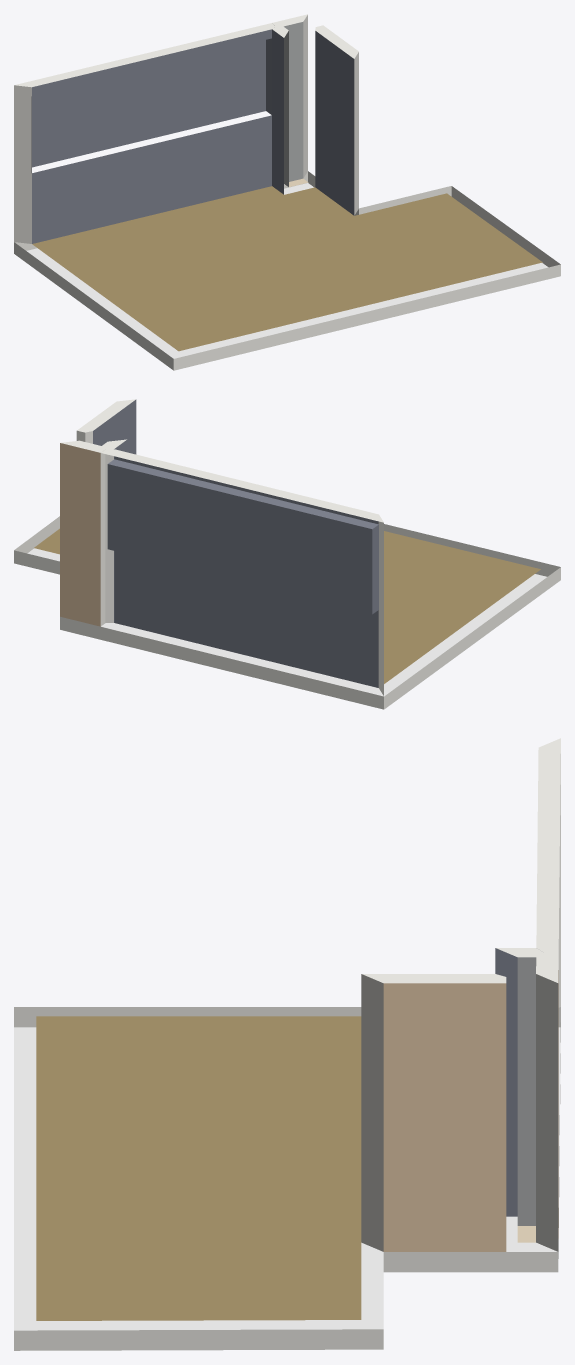
Rendered from room_level4_group_00_lev1.glb.
3 renders of one model, top to bottom at view 1: azimuth 30°, elevation 25°; view 2: azimuth 150°, elevation 25°; view 3: azimuth 270°, elevation 25°, orthographic. The views are drawn at different scales.
Visible parts, largest first — view 1: mesh4__0dbccd6c_9a0f_084a_864c_9ca557faa1ec__0ayysbed_zg83dy, mesh14__db2f0d91_7694_6343_b0fd_47d4e18ad08a__0_lev1, mesh64__db2f0d91_7694_6343_b0fd_47d4e18ad08a__0_lev1, mesh1__a6f3e02a_d7d8_0f41_8aa3_8ef13c2b3b5d__0_lev1, mesh6__db2f0d91_7694_6343_b0fd_47d4e18ad08a__0_lev1, mesh2__c2542081_5ccf_c14f_b117_9df684bb1a7b__0_lev1, mesh16_fx_9001_cream_matte_paint_0_lev1, mesh18__4aa4e706_0d30_d54b_b003_55d5056eaf82__0_lev1, mesh21__db2f0d91_7694_6343_b0fd_47d4e18ad08a__0_lev1, mesh15_fx_9001_cream_matte_paint_0_lev1, mesh8_fx_9001_cream_matte_paint_0_lev1, mesh20_fx_9001_cream_matte_paint_0_lev1 (+3 smaller); view 2: mesh64__db2f0d91_7694_6343_b0fd_47d4e18ad08a__0_lev1, mesh14__db2f0d91_7694_6343_b0fd_47d4e18ad08a__0_lev1, mesh4__0dbccd6c_9a0f_084a_864c_9ca557faa1ec__0ayysbed_zg83dy, mesh1__a6f3e02a_d7d8_0f41_8aa3_8ef13c2b3b5d__0_lev1, mesh17__5463735a_07d9_0d46_b99b_4a921fd9a507__0_lev1, mesh2__c2542081_5ccf_c14f_b117_9df684bb1a7b__0_lev1, mesh16_fx_9001_cream_matte_paint_0_lev1, mesh65__db2f0d91_7694_6343_b0fd_47d4e18ad08a__0_lev1, mesh15_fx_9001_cream_matte_paint_0_lev1, mesh6__db2f0d91_7694_6343_b0fd_47d4e18ad08a__0_lev1, mesh7_fx_9001_cream_matte_paint_0_lev1; view 3: mesh4__0dbccd6c_9a0f_084a_864c_9ca557faa1ec__0ayysbed_zg83dy, mesh5__5463735a_07d9_0d46_b99b_4a921fd9a507__0_lev1, mesh1__a6f3e02a_d7d8_0f41_8aa3_8ef13c2b3b5d__0_lev1, mesh2__c2542081_5ccf_c14f_b117_9df684bb1a7b__0_lev1, mesh8_fx_9001_cream_matte_paint_0_lev1, mesh20_fx_9001_cream_matte_paint_0_lev1, mesh22__4aa4e706_0d30_d54b_b003_55d5056eaf82__0_lev1, mesh15_fx_9001_cream_matte_paint_0_lev1, mesh21__db2f0d91_7694_6343_b0fd_47d4e18ad08a__0_lev1, mesh7_fx_9001_cream_matte_paint_0_lev1.
Boxes of the visible parts, left/top/right/bottom form: mesh4__0dbccd6c_9a0f_084a_864c_9ca557faa1ec__0ayysbed_zg83dy: left=32, top=186, right=542, bottom=351; mesh14__db2f0d91_7694_6343_b0fd_47d4e18ad08a__0_lev1: left=32, top=29, right=271, bottom=243; mesh64__db2f0d91_7694_6343_b0fd_47d4e18ad08a__0_lev1: left=32, top=40, right=265, bottom=167; mesh1__a6f3e02a_d7d8_0f41_8aa3_8ef13c2b3b5d__0_lev1: left=14, top=171, right=560, bottom=370; mesh6__db2f0d91_7694_6343_b0fd_47d4e18ad08a__0_lev1: left=315, top=31, right=354, bottom=215; mesh2__c2542081_5ccf_c14f_b117_9df684bb1a7b__0_lev1: left=27, top=183, right=548, bottom=358; mesh16_fx_9001_cream_matte_paint_0_lev1: left=14, top=25, right=274, bottom=243; mesh18__4aa4e706_0d30_d54b_b003_55d5056eaf82__0_lev1: left=284, top=22, right=303, bottom=181; mesh21__db2f0d91_7694_6343_b0fd_47d4e18ad08a__0_lev1: left=272, top=29, right=283, bottom=194; mesh15_fx_9001_cream_matte_paint_0_lev1: left=14, top=23, right=275, bottom=87; mesh8_fx_9001_cream_matte_paint_0_lev1: left=354, top=52, right=358, bottom=215; mesh20_fx_9001_cream_matte_paint_0_lev1: left=303, top=15, right=307, bottom=177; mesh64__db2f0d91_7694_6343_b0fd_47d4e18ad08a__0_lev1: left=107, top=464, right=372, bottom=614; mesh14__db2f0d91_7694_6343_b0fd_47d4e18ad08a__0_lev1: left=114, top=456, right=378, bottom=687; mesh4__0dbccd6c_9a0f_084a_864c_9ca557faa1ec__0ayysbed_zg83dy: left=34, top=528, right=540, bottom=683; mesh1__a6f3e02a_d7d8_0f41_8aa3_8ef13c2b3b5d__0_lev1: left=14, top=516, right=560, bottom=709; mesh17__5463735a_07d9_0d46_b99b_4a921fd9a507__0_lev1: left=60, top=443, right=100, bottom=626; mesh2__c2542081_5ccf_c14f_b117_9df684bb1a7b__0_lev1: left=27, top=548, right=546, bottom=696; mesh16_fx_9001_cream_matte_paint_0_lev1: left=100, top=453, right=383, bottom=695; mesh65__db2f0d91_7694_6343_b0fd_47d4e18ad08a__0_lev1: left=108, top=459, right=378, bottom=614; mesh15_fx_9001_cream_matte_paint_0_lev1: left=101, top=449, right=383, bottom=522; mesh6__db2f0d91_7694_6343_b0fd_47d4e18ad08a__0_lev1: left=93, top=399, right=136, bottom=454; mesh7_fx_9001_cream_matte_paint_0_lev1: left=77, top=399, right=135, bottom=432; mesh4__0dbccd6c_9a0f_084a_864c_9ca557faa1ec__0ayysbed_zg83dy: left=36, top=1016, right=361, bottom=1320; mesh5__5463735a_07d9_0d46_b99b_4a921fd9a507__0_lev1: left=383, top=983, right=506, bottom=1251; mesh1__a6f3e02a_d7d8_0f41_8aa3_8ef13c2b3b5d__0_lev1: left=14, top=1007, right=560, bottom=1350; mesh2__c2542081_5ccf_c14f_b117_9df684bb1a7b__0_lev1: left=14, top=1027, right=560, bottom=1330; mesh8_fx_9001_cream_matte_paint_0_lev1: left=361, top=974, right=383, bottom=1251; mesh20_fx_9001_cream_matte_paint_0_lev1: left=536, top=974, right=558, bottom=1251; mesh22__4aa4e706_0d30_d54b_b003_55d5056eaf82__0_lev1: left=517, top=957, right=536, bottom=1225; mesh15_fx_9001_cream_matte_paint_0_lev1: left=536, top=738, right=560, bottom=952; mesh21__db2f0d91_7694_6343_b0fd_47d4e18ad08a__0_lev1: left=495, top=948, right=517, bottom=1216; mesh7_fx_9001_cream_matte_paint_0_lev1: left=362, top=974, right=506, bottom=983.
Bounding box in the file's own units: 79.2 × 32.96 × 56.55.
